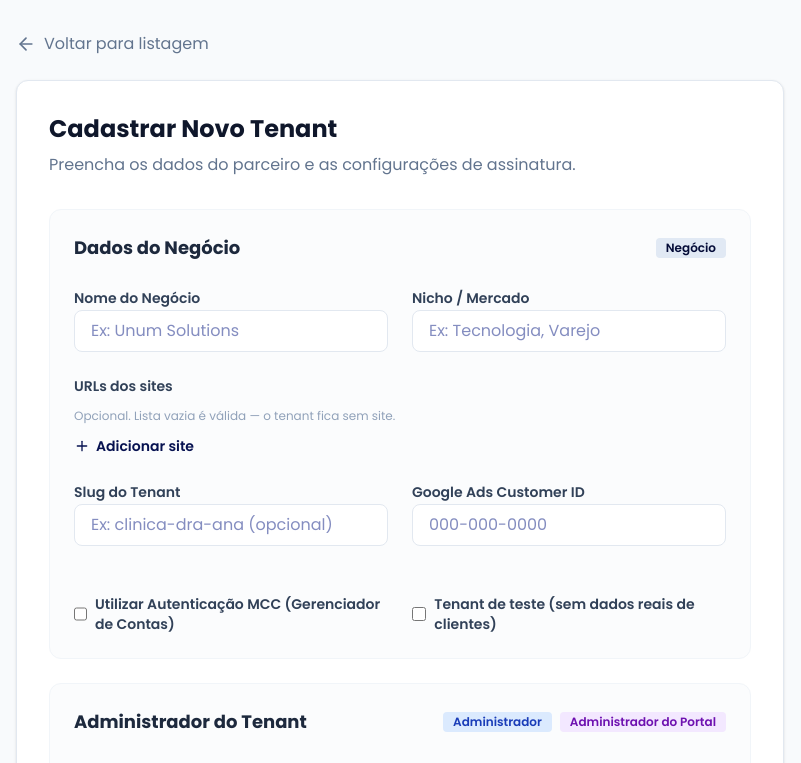
Test: NewTenantPage - T15 site_urls (grupo repetível na criação) › item inválido bloqueia o submit com mensagem visível
Type "Empresa Teste" into the field named "nome_negocio" at (231,331), box 74,310 -> 388,352
(page scrolled)
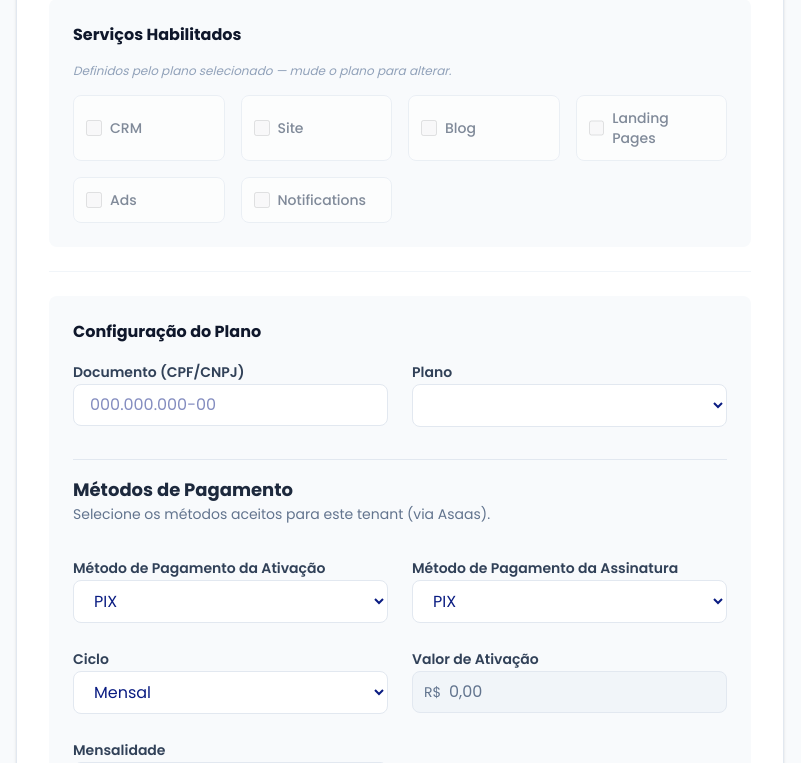
Type "94.586.814/0001-01" into the field named "documento" at (230,405), box 73,384 -> 388,426
(page scrolled)
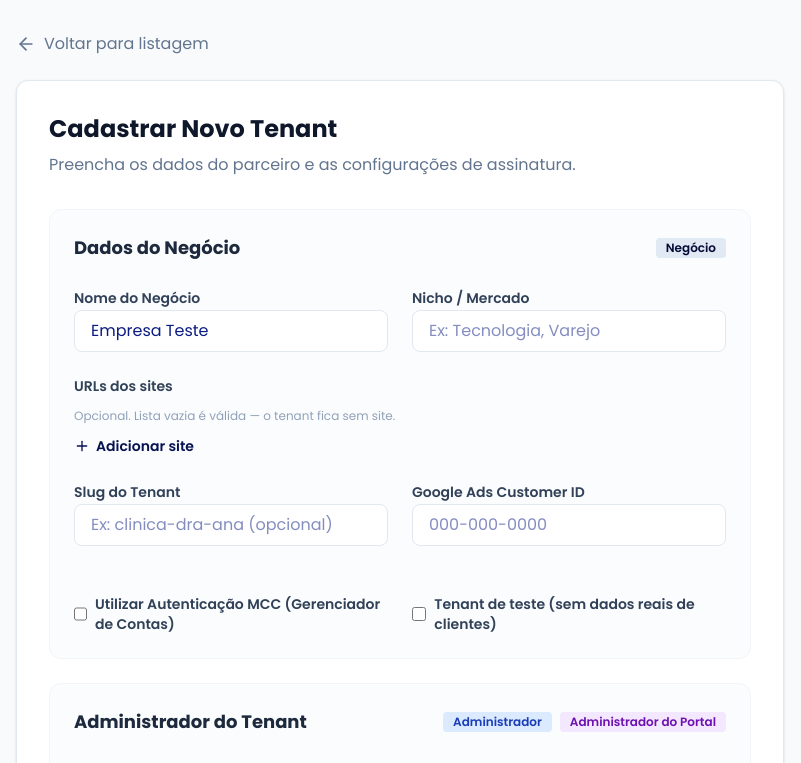
Type "Tech" into the field named "nicho" at (569,331), box 412,310 -> 726,352
(page scrolled)
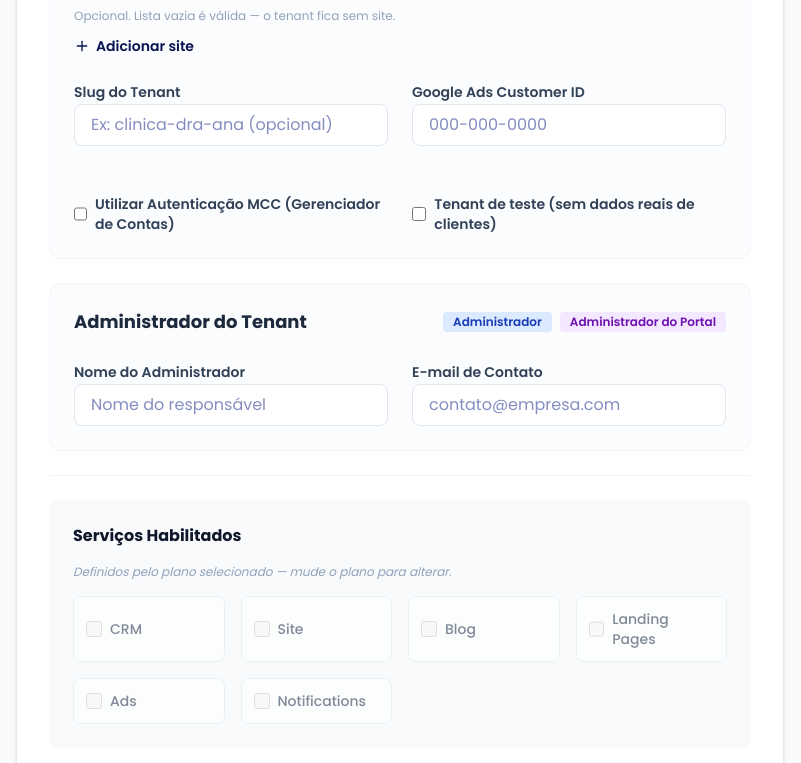
Type "Admin Teste" into the field named "nome_admin" at (231,405), box 74,384 -> 388,426
Type "admin@teste.com" into the field named "email_contato" at (569,405), box 412,384 -> 726,426
Click the button "Adicionar site" at (134,46), box 74,36 -> 194,56
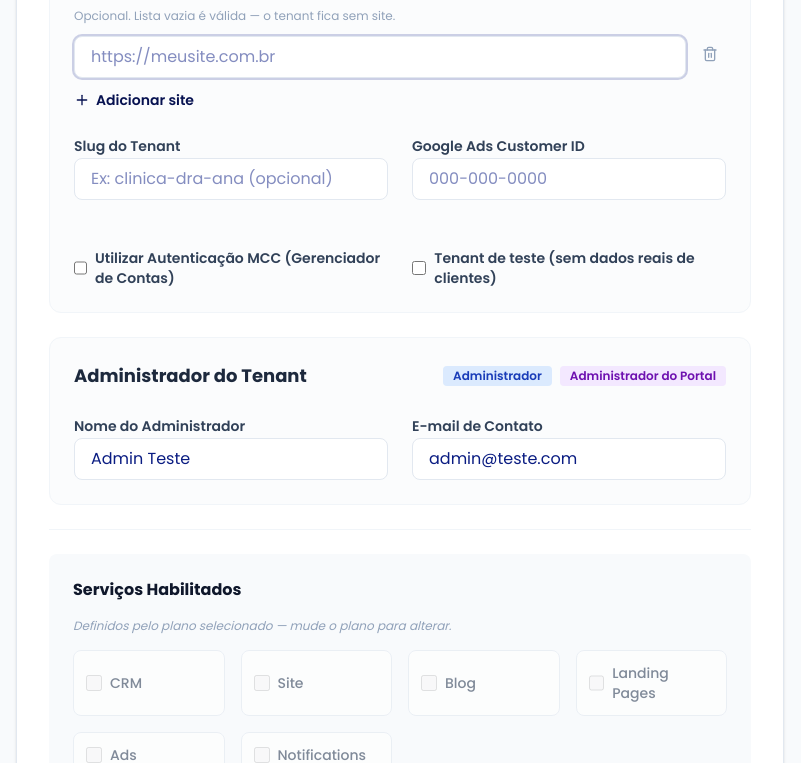
Type "nao-e-url" into the field named "url do site" at (380,57), box 74,36 -> 686,78
(page scrolled)
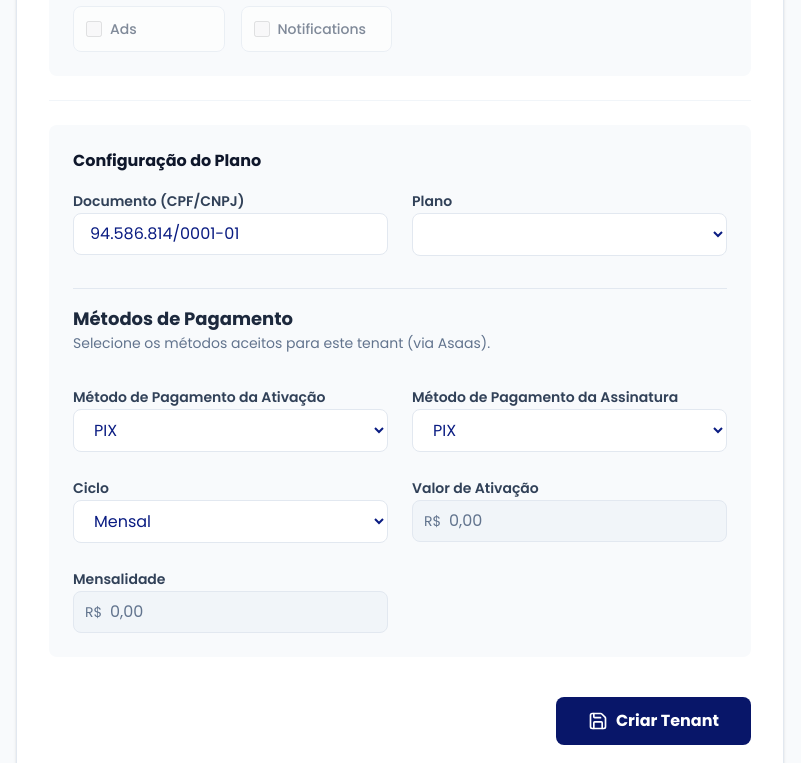
Click the button "Criar Tenant" at (653,721), box 556,697 -> 751,745
(page scrolled)
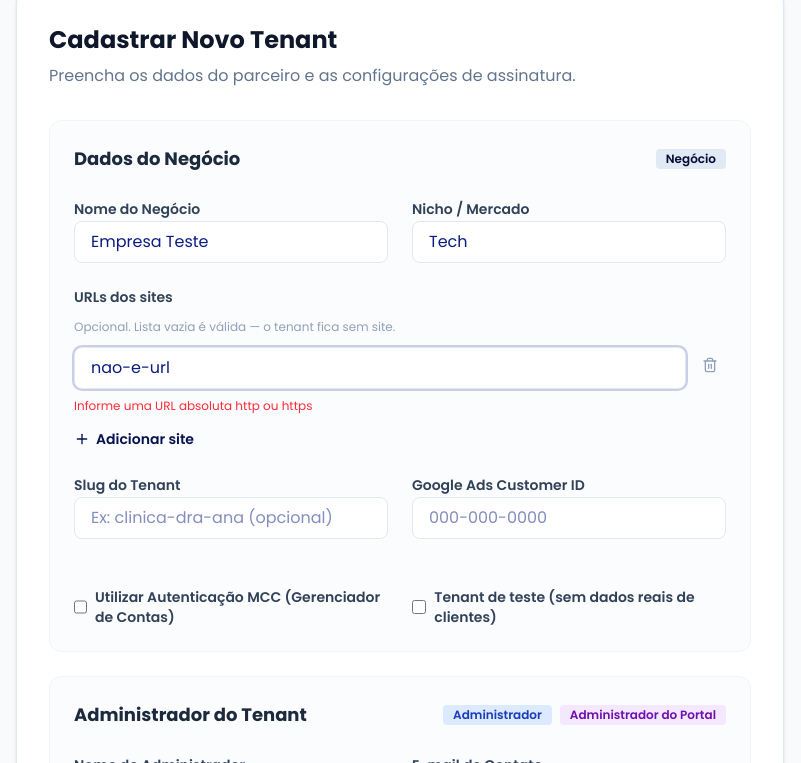
Expected: the message "Informe uma URL absoluta http ou https" is shown, 74,397 -> 312,414
